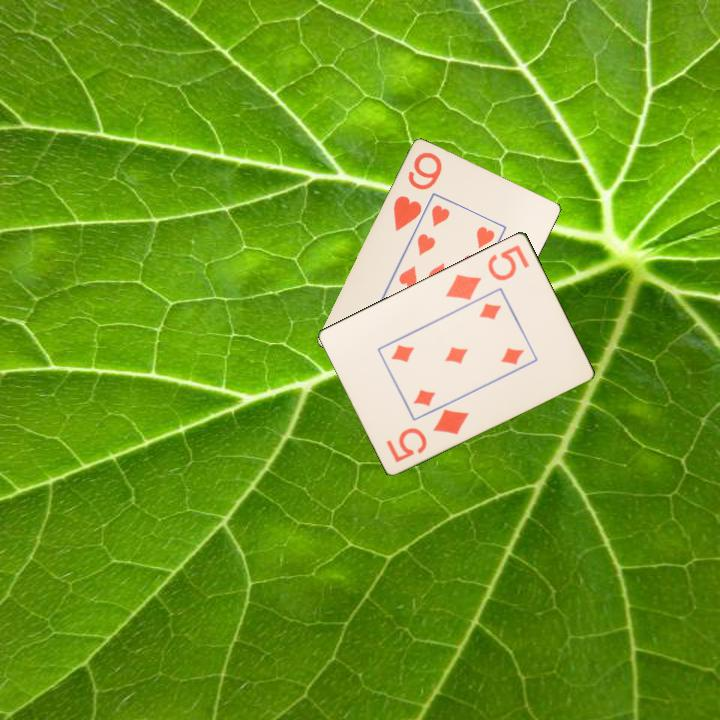5d: (442, 241, 532, 303), (383, 405, 472, 465)
9h: (390, 149, 445, 235)
